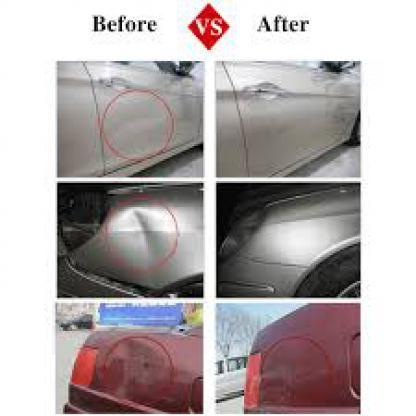dent: (113, 204, 174, 266)
